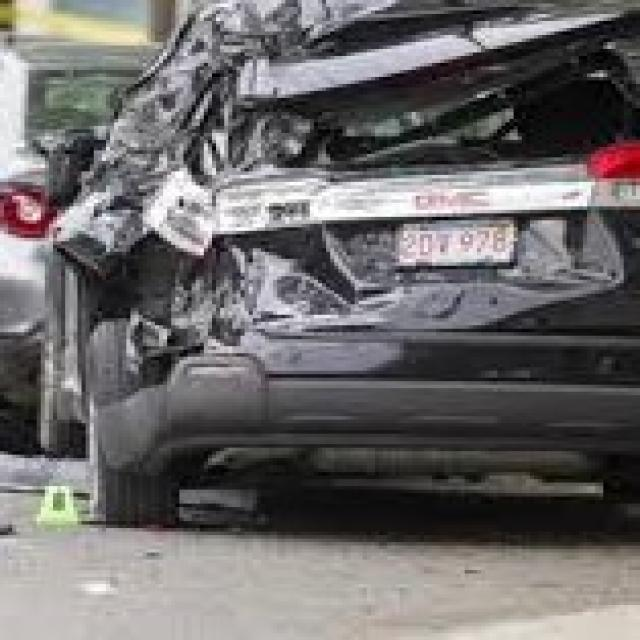moderate: (78, 11, 443, 384)
